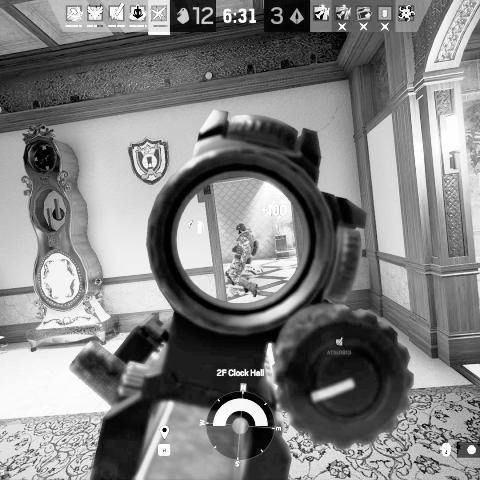Character: (223, 221, 263, 300)
Friend_label: (326, 337, 353, 356)
Head: (235, 222, 248, 235)
